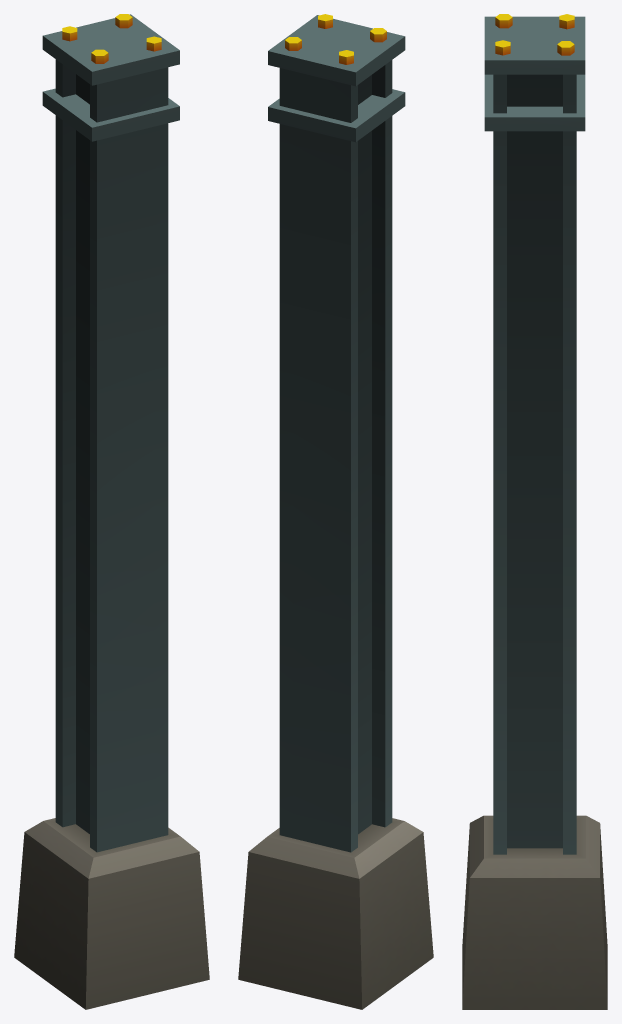
File: Metal_Pole_2A.fbx
3 renders of one model, left to right at view 1: azimuth 30°, elevation 25°; view 2: azimuth 150°, elevation 25°; view 3: azimuth 270°, elevation 25°, orthographic.
Visible parts, largest first — view 1: Metal_Pole_2A; view 2: Metal_Pole_2A; view 3: Metal_Pole_2A.
Boxes of the visible parts, bbox=[...] form: Metal_Pole_2A: bbox=[14, 14, 209, 1009]; Metal_Pole_2A: bbox=[238, 14, 433, 1009]; Metal_Pole_2A: bbox=[462, 14, 607, 1009].
Bounding box in the file's own units: 1.39 × 10.01 × 1.39.
